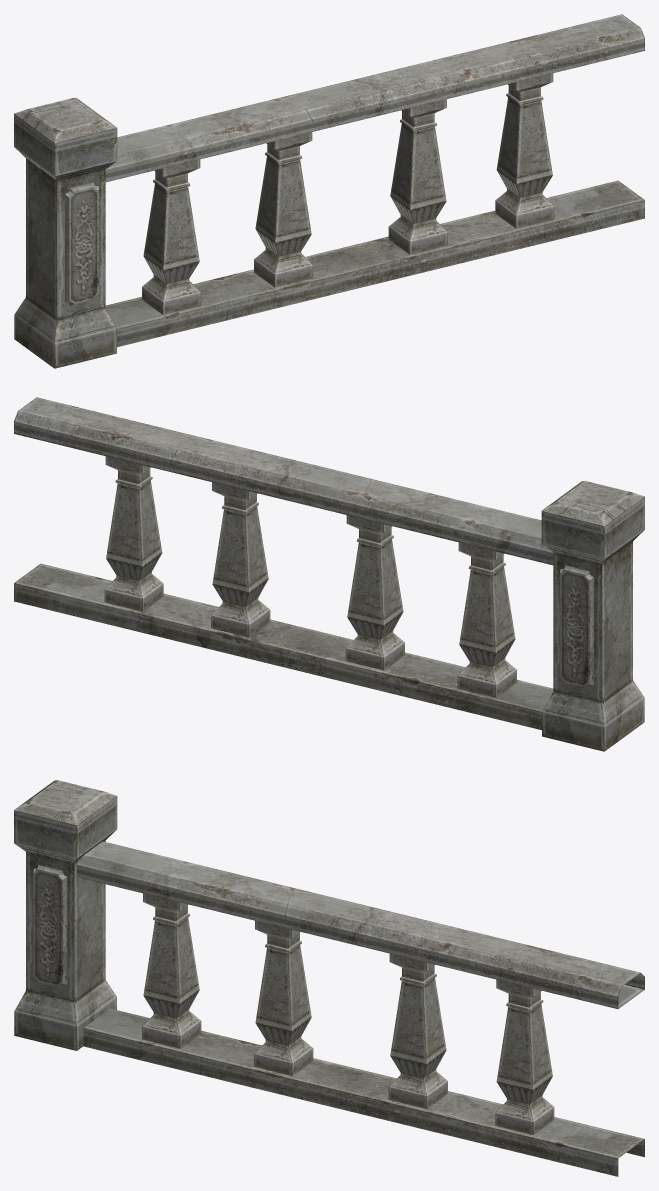
The model's file is bg_lut_lucastle_fence02_sm_lkj.FBX.
3 renders of one model, top to bottom at view 1: azimuth 30°, elevation 25°; view 2: azimuth 150°, elevation 25°; view 3: azimuth 330°, elevation 25°, orthographic.
Visible parts, largest first — view 1: bg_lut_lucastle_fence02_sm_lkj; view 2: bg_lut_lucastle_fence02_sm_lkj; view 3: bg_lut_lucastle_fence02_sm_lkj.
Boxes of the visible parts, box(x1,y1,x2,y2) form: bg_lut_lucastle_fence02_sm_lkj: box(14, 14, 644, 368); bg_lut_lucastle_fence02_sm_lkj: box(14, 397, 644, 751); bg_lut_lucastle_fence02_sm_lkj: box(14, 780, 644, 1176).
Size of the model in its own units: 273 by 101 by 32.03.
